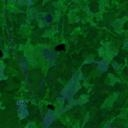alloviz: (53, 42, 66, 52), (45, 102, 56, 111)
